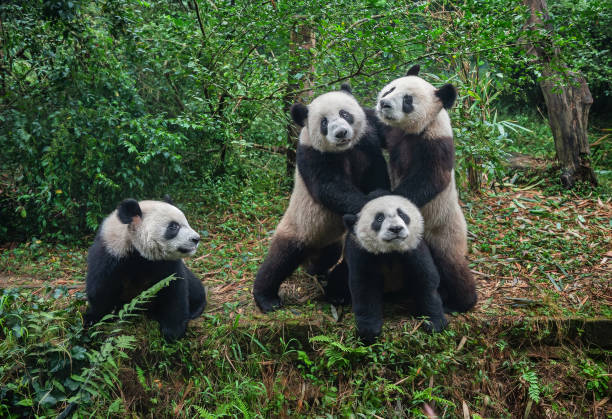panda: (106, 182, 216, 276), (271, 73, 378, 167), (324, 183, 432, 270), (377, 57, 470, 149)
